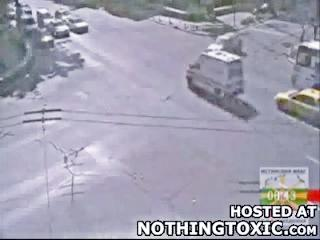Car: (183, 49, 244, 101), (275, 88, 320, 122), (291, 41, 320, 89), (201, 32, 243, 56), (45, 20, 71, 39), (31, 28, 54, 49), (67, 16, 89, 35), (22, 15, 39, 35), (36, 8, 51, 24), (20, 2, 33, 18), (55, 8, 68, 19)
Not Accident: (181, 31, 246, 103)
